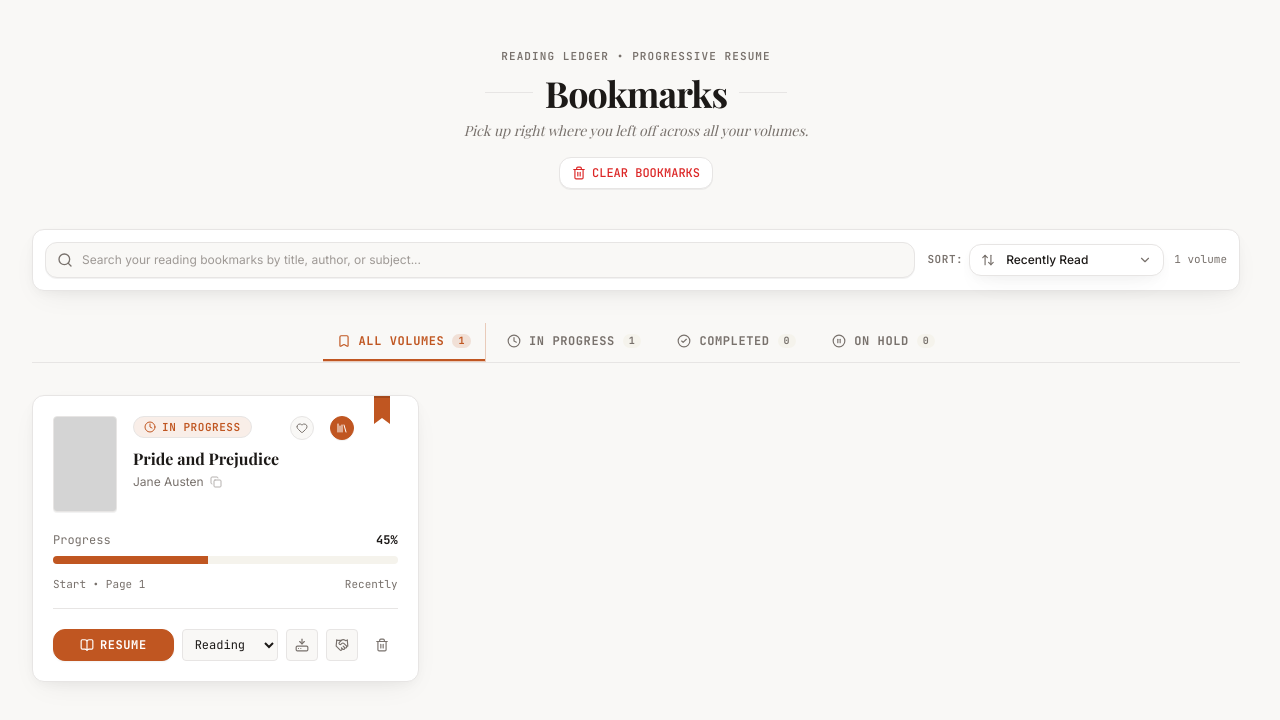
Scenario: BookmarksView › filters active volumes using the search bar and supports clearing search
# Type non-matching search
Replace the text in the field named "search bookmarks" with "Nonexistent Author": (480, 260) 45,242 -> 915,278
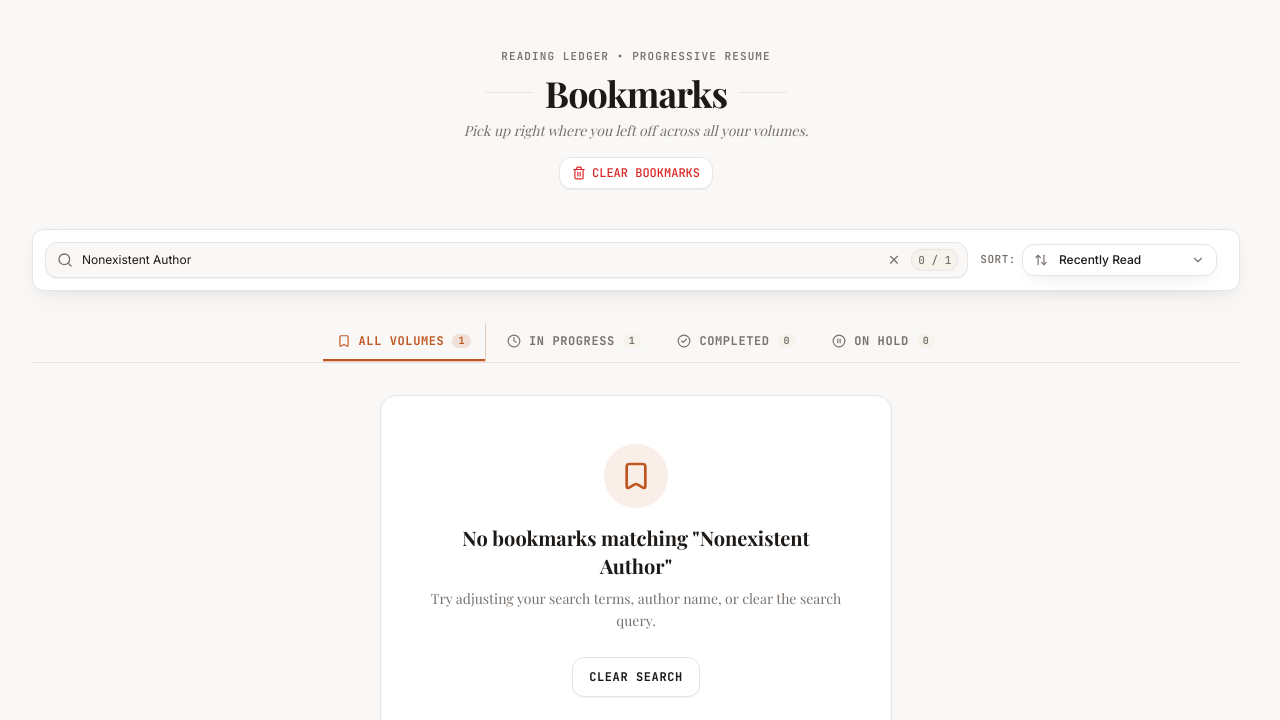
Check: the heading "No bookmarks matching \"Nonexistent Author\"" is shown, box 462,524 -> 810,578
Check: the button "Pride and Prejudice" is gone
# Click 'Clear Search' button
Click the button "Clear Search": click(636, 677) 572,657 -> 700,697
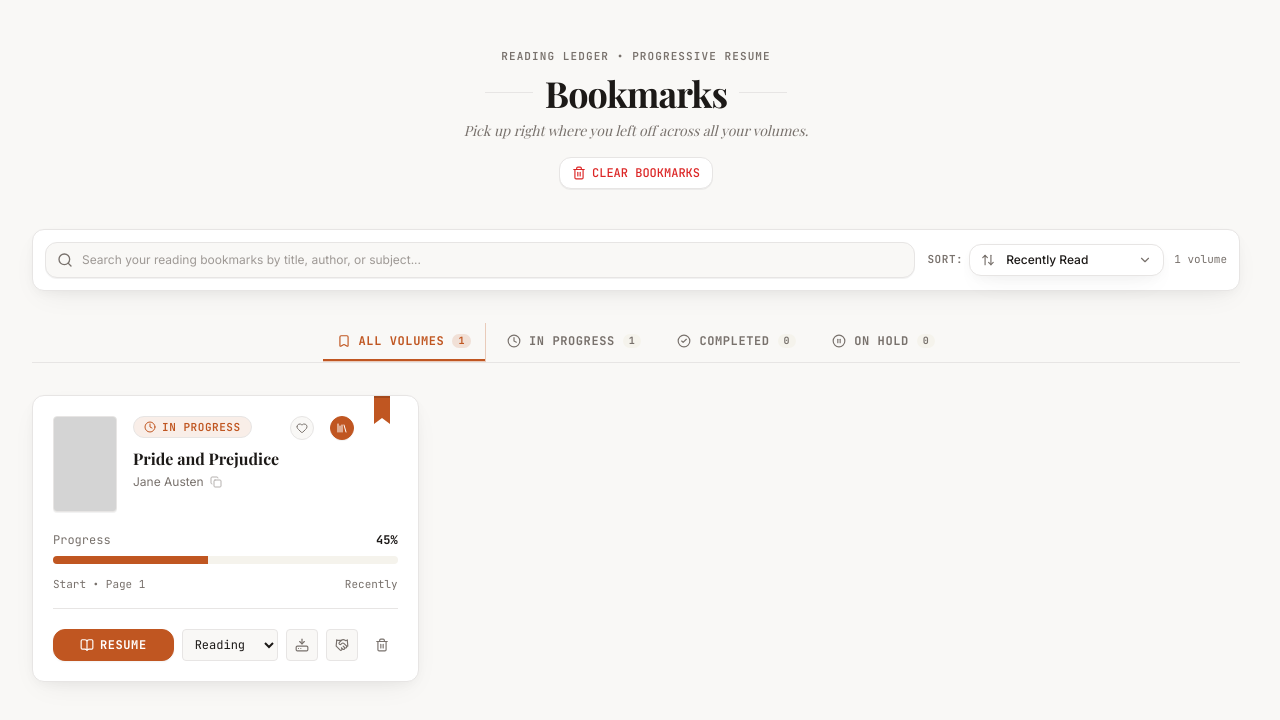
Check: the text "Pride and Prejudice" is shown, box 133,448 -> 279,468
